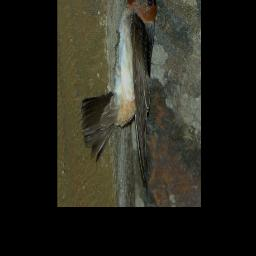Swallow: (81, 0, 158, 193)
